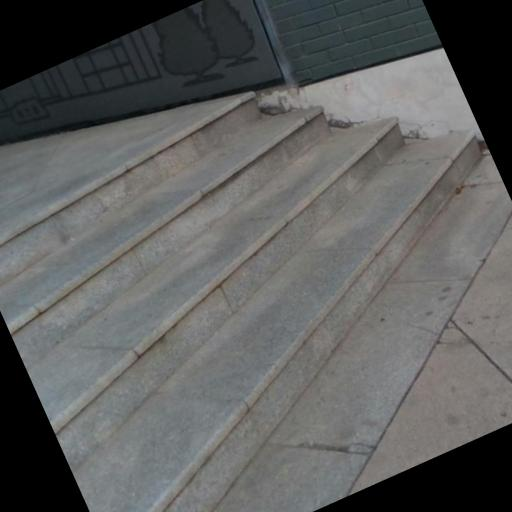stairs: (0, 96, 478, 511)
